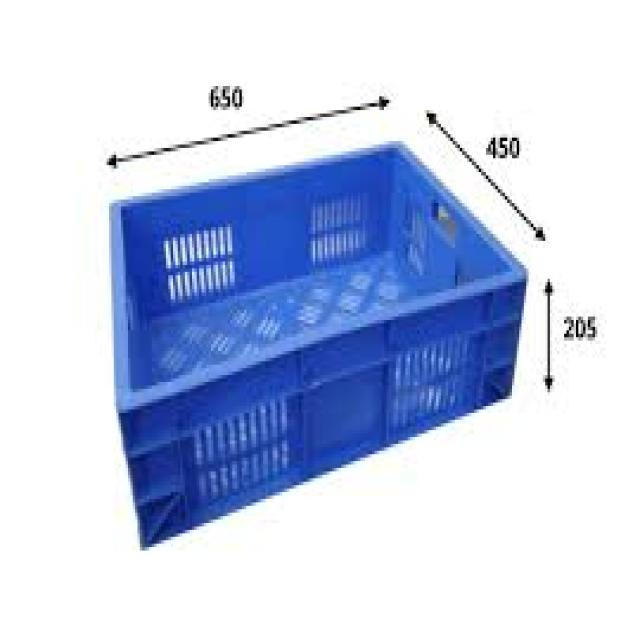basket: (61, 112, 570, 548)
